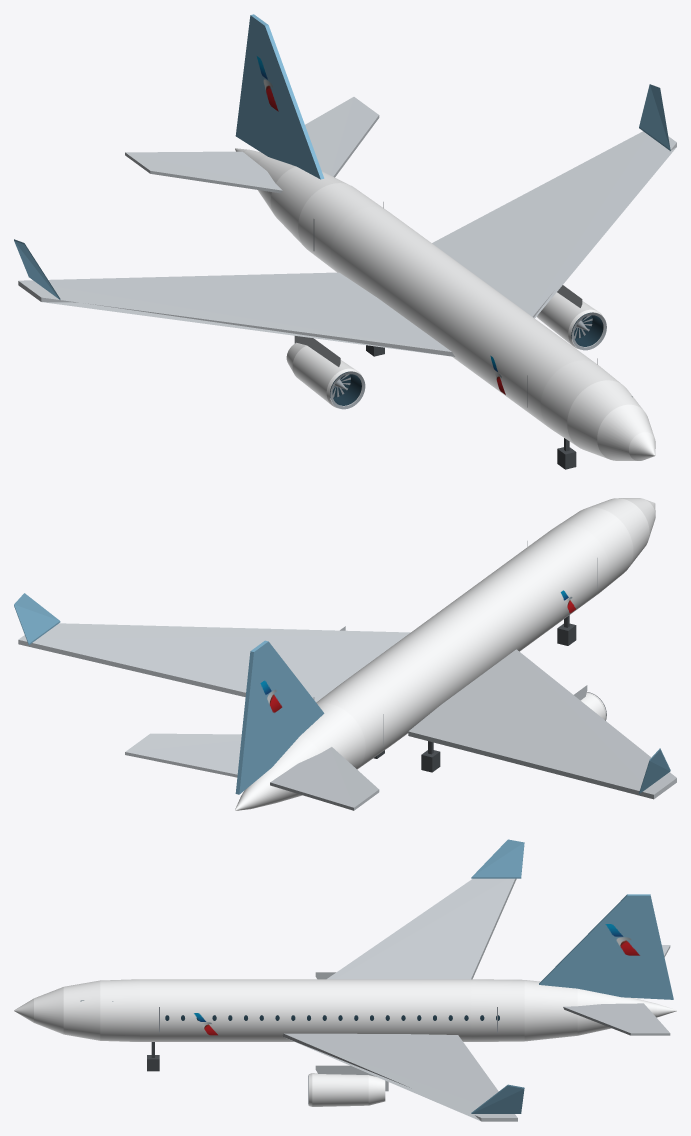
The model's file is b737-AAL-v2.gltf.
3 views of the same model, one above another, from view 1: azimuth 30°, elevation 25°; view 2: azimuth 150°, elevation 25°; view 3: azimuth 270°, elevation 25° (orthographic). The views are drawn at different scales.
Visible parts, largest first — view 1: object 1; view 2: object 1, Gear; view 3: object 1.
Part boxes in pixels (<box>): object 1: <box>14,14,676,460</box>; object 1: <box>14,498,676,810</box>; Gear: <box>373,615,576,772</box>; object 1: <box>14,839,676,1121</box>.
Bounding box in the file's own units: 35 × 11.6 × 40.
Materials: 7 (1 with a texture image).
